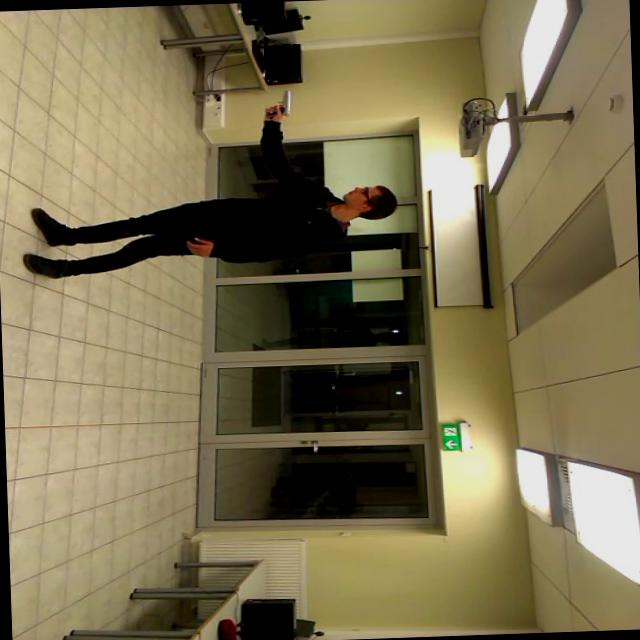handgun: (246, 90, 307, 128)
